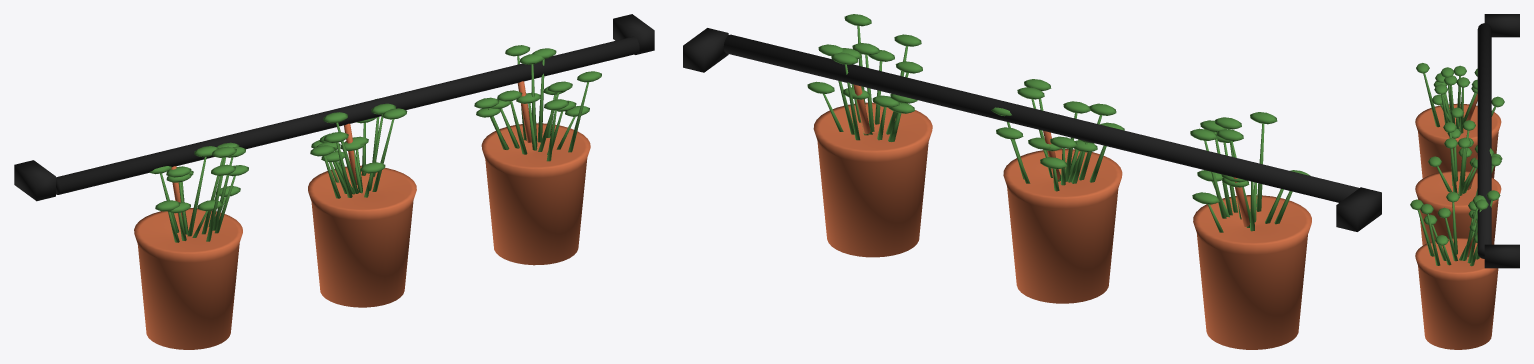
File: decor-herbrail.glb
The picture shows the model from 3 angles, left to right: view 1: azimuth 30°, elevation 25°; view 2: azimuth 150°, elevation 25°; view 3: azimuth 270°, elevation 25°; orthographic projection. The views are drawn at different scales.
Visible parts, largest first — view 1: HerbRail__Pots, HerbRail__Herbs, HerbRail__Rail; view 2: HerbRail__Pots, HerbRail__Rail, HerbRail__Herbs; view 3: HerbRail__Pots, HerbRail__Herbs, HerbRail__Rail.
Boxes of the visible parts, <box> form: HerbRail__Pots: <box>134,81,590,349</box>; HerbRail__Herbs: <box>149,45,601,242</box>; HerbRail__Rail: <box>14,14,654,201</box>; HerbRail__Pots: <box>813,84,1311,349</box>; HerbRail__Rail: <box>683,28,1381,231</box>; HerbRail__Herbs: <box>807,14,1310,232</box>; HerbRail__Pots: <box>1415,93,1501,349</box>; HerbRail__Herbs: <box>1410,63,1504,266</box>; HerbRail__Rail: <box>1477,14,1519,268</box>.
Size of the model in its own units: 64 by 18.11 by 12.48.
